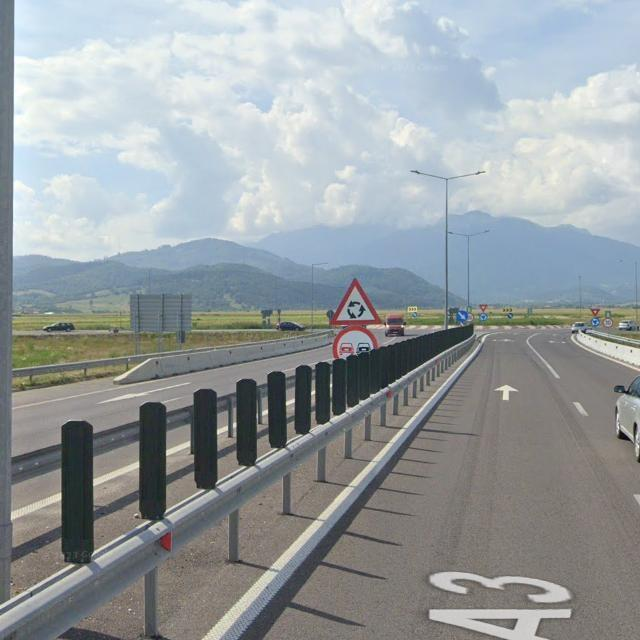forb_overtake: (333, 326, 378, 361)
